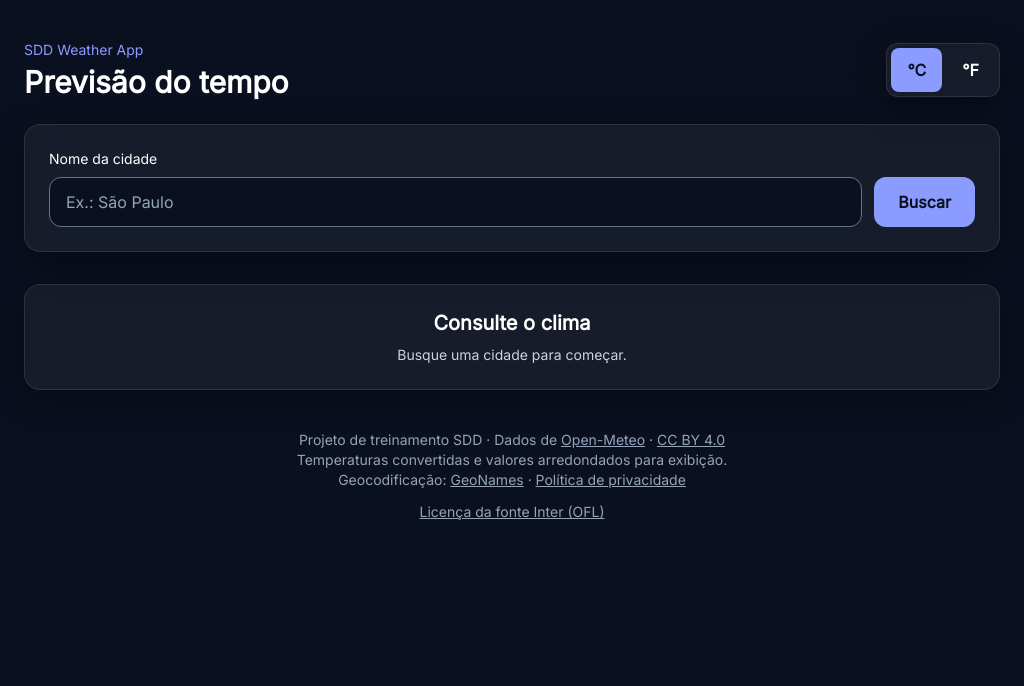
Test: App integrado ao hook › busca e mostra sucesso, convertendo somente na renderização
Type "São Paulo" into the search field at (456, 202), box x1=49 y1=177 x2=862 y2=227
Then press Enter
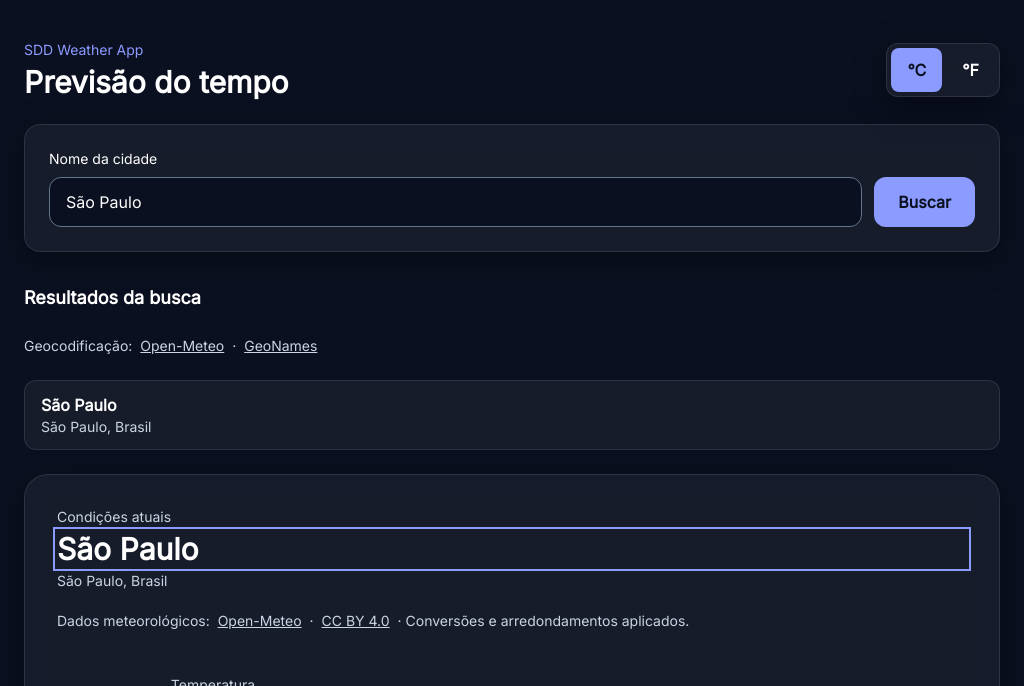
Click the button "°F" at (971, 70), box x1=946 y1=48 x2=995 y2=92
(page scrolled)
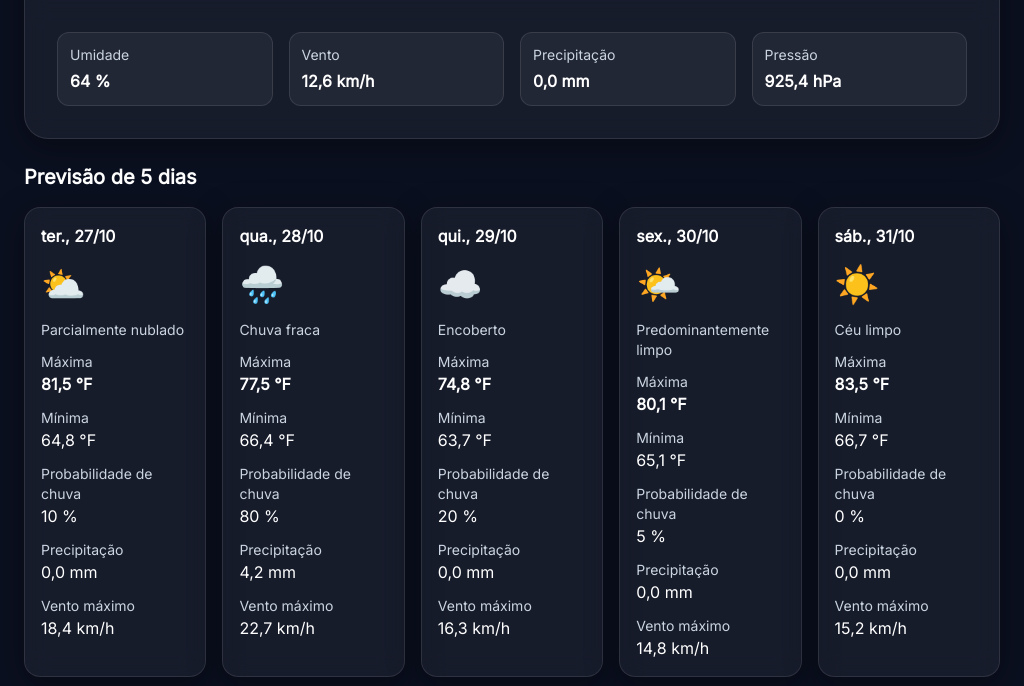
Expected: the text "81,5 °F" is shown, x1=41 y1=374 x2=92 y2=394
